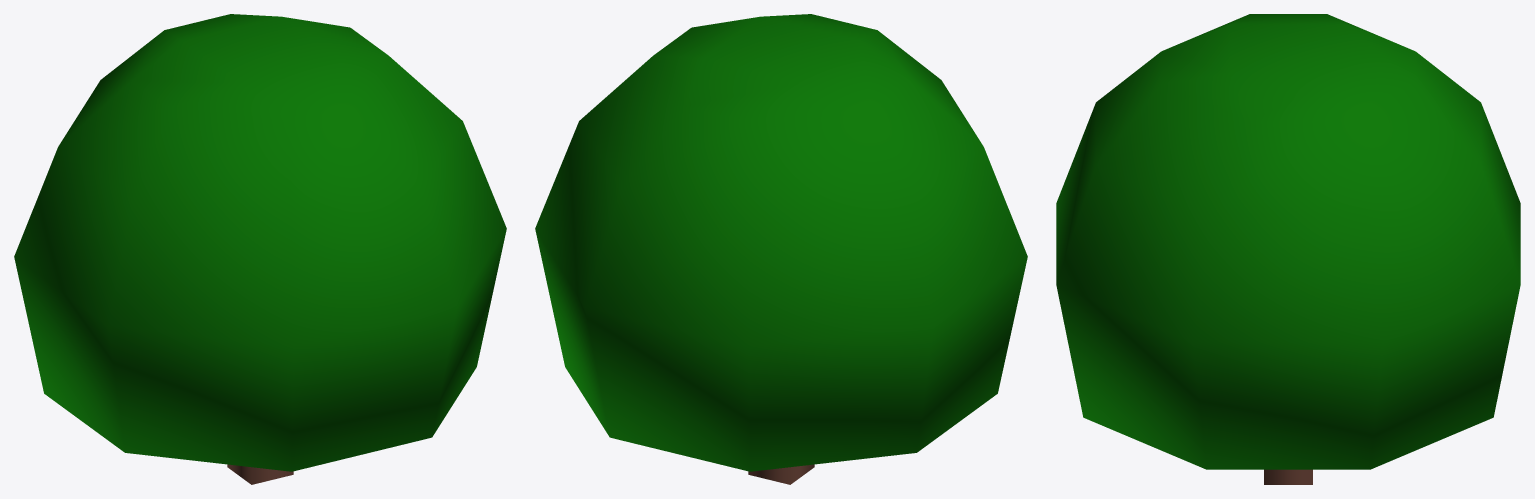
The model's file is Bush.fbx.
The picture shows the model from 3 angles, left to right: view 1: azimuth 30°, elevation 25°; view 2: azimuth 150°, elevation 25°; view 3: azimuth 270°, elevation 25°; orthographic projection.
Parts seen in each view (by area): view 1: Bush, Stem; view 2: Bush, Stem; view 3: Bush, Stem.
Boxes of the visible parts, x1=… form: Bush: x1=14, y1=14, x2=506, y2=471; Stem: x1=227, y1=464, x2=293, y2=484; Bush: x1=535, y1=14, x2=1027, y2=471; Stem: x1=748, y1=464, x2=814, y2=484; Bush: x1=1056, y1=14, x2=1520, y2=469; Stem: x1=1264, y1=469, x2=1312, y2=484.
Size of the model in its own units: 169 by 171 by 169.
